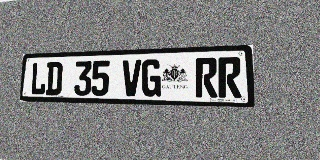3: (74, 61, 92, 96)
5: (91, 60, 110, 96)
D: (45, 62, 63, 95)
G: (141, 59, 161, 97)
L: (30, 62, 47, 95)
R: (218, 57, 242, 98), (195, 57, 217, 98)
V: (122, 59, 141, 97)
